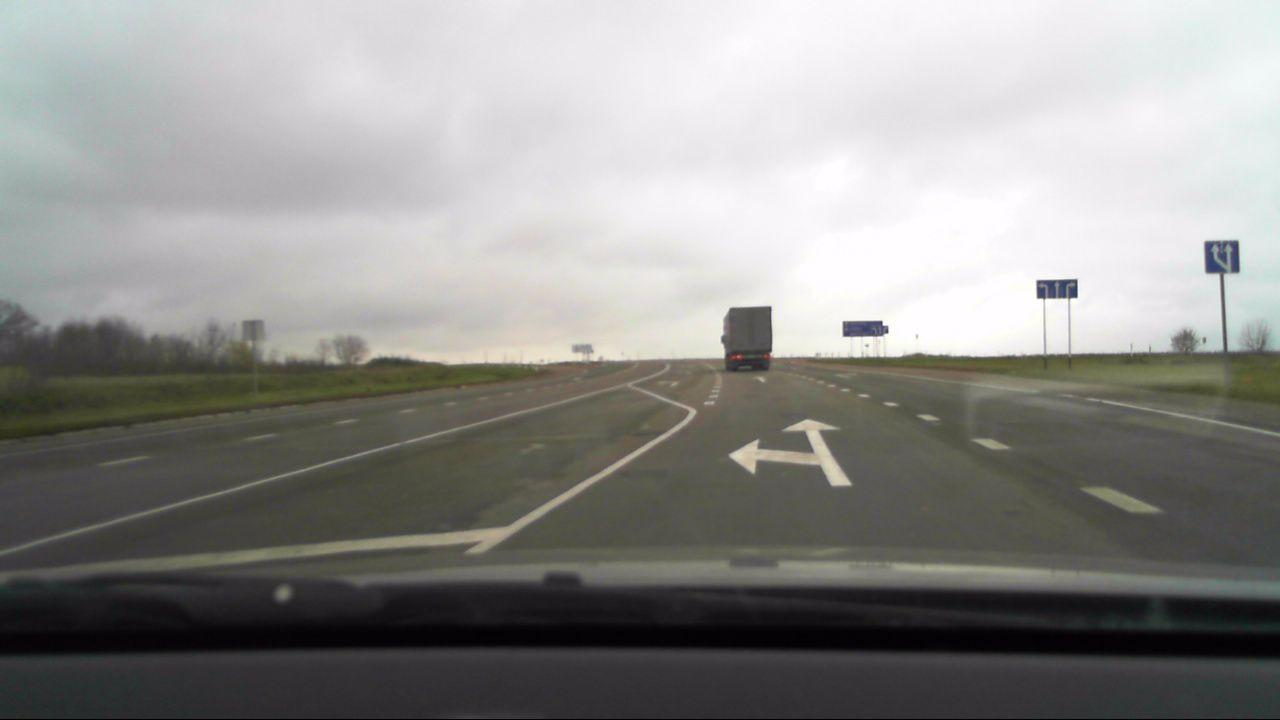5_15_1: (1036, 278, 1083, 300), (872, 324, 889, 335)
5_15_3: (1204, 240, 1239, 275)
